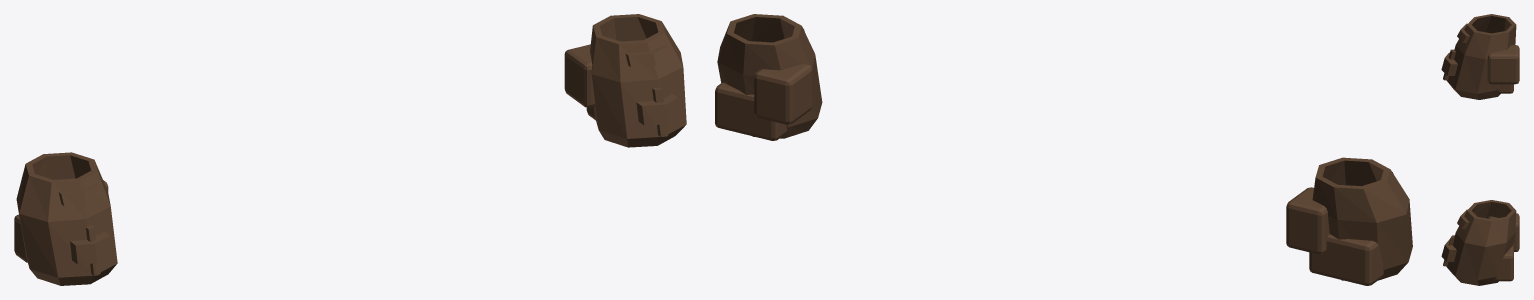
Rendered from leather_hands-male-thickHide.glb.
3 views of the same model, side by side, from view 1: azimuth 30°, elevation 25°; view 2: azimuth 150°, elevation 25°; view 3: azimuth 270°, elevation 25° (orthographic). The views are drawn at different scales.
Parts seen in each view (by area): view 1: Block hand armor -1, Block hand armor 1, Block thumb armor 1, Heavy hide binding Block hand armor 1, Heavy hide binding Block hand armor -1, Glove turned wrist seam 1, Glove turned wrist seam -1; view 2: Block hand armor -1, Block hand armor 1, Block thumb armor 1, Block hand curl armor -1, Block hand curl armor 1, Block thumb armor -1; view 3: Block hand armor 1, Block hand armor -1, Block thumb armor -1, Block hand curl armor 1, Heavy hide binding Block hand armor -1, Heavy hide binding Block hand armor 1, Block thumb armor 1, Block hand curl armor -1, Glove turned wrist seam -1, Glove turned wrist seam 1, Glove back seam -1, Glove back seam 1.
Part boxes in pixels (x1,y1,x2,y2): Block hand armor -1: (16,152,117,285); Block hand armor 1: (590,14,686,147); Block thumb armor 1: (564,44,595,107); Heavy hide binding Block hand armor 1: (636,94,680,125); Heavy hide binding Block hand armor -1: (70,231,112,264); Glove turned wrist seam 1: (625,44,670,67); Glove turned wrist seam -1: (58,182,102,206); Block hand armor -1: (1312,157,1412,280); Block hand armor 1: (717,14,822,138); Block thumb armor 1: (754,63,812,124); Block hand curl armor -1: (1309,234,1383,285); Block hand curl armor 1: (715,82,787,140); Block thumb armor -1: (1286,187,1329,254); Block hand armor 1: (1446,200,1516,285); Block hand armor -1: (1446,14,1516,99); Block thumb armor -1: (1487,45,1519,84); Block hand curl armor 1: (1494,244,1513,281); Heavy hide binding Block hand armor -1: (1441,52,1457,75); Heavy hide binding Block hand armor 1: (1441,239,1456,261); Block thumb armor 1: (1488,213,1519,251); Block hand curl armor -1: (1498,84,1513,93); Glove turned wrist seam -1: (1457,23,1469,42); Glove turned wrist seam 1: (1457,209,1469,228); Glove back seam -1: (1443,49,1455,80); Glove back seam 1: (1443,235,1454,266).
Bounding box in the file's own units: 3.76 × 0.52 × 0.5715.
